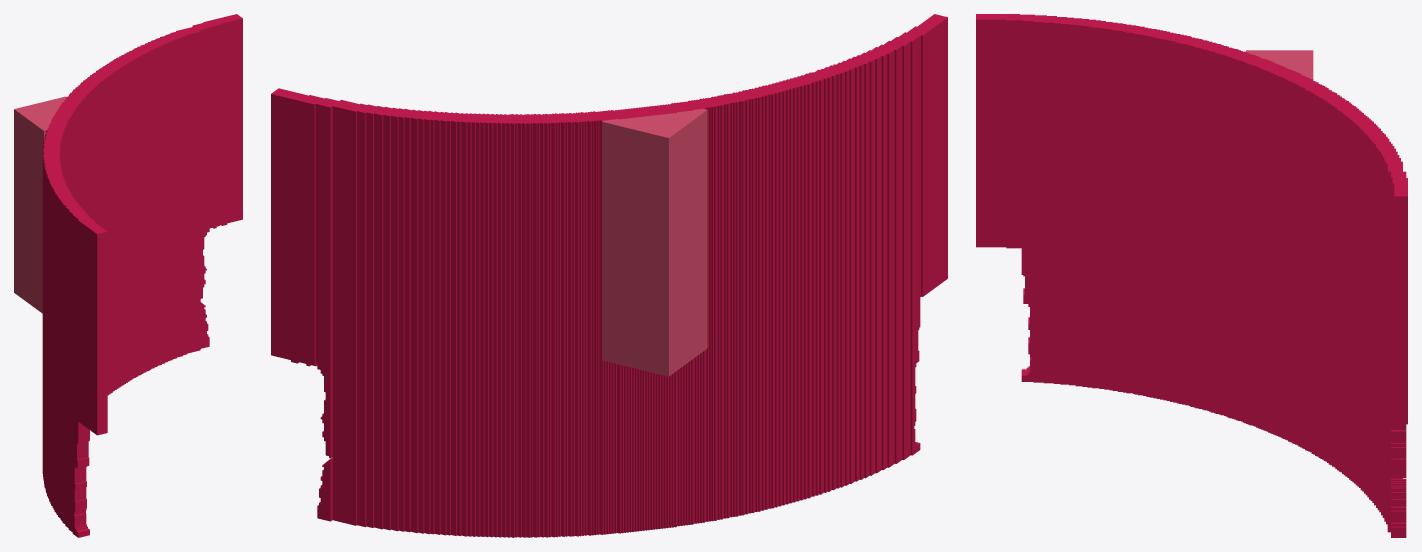
File: base_with_flag_elements-13.obj
The picture shows the model from 3 angles, left to right: view 1: azimuth 30°, elevation 25°; view 2: azimuth 150°, elevation 25°; view 3: azimuth 270°, elevation 25°; orthographic projection. The views are drawn at different scales.
Size of the model in its own units: 25.6 by 23.6 by 25.6.
1 material, 1 textured.
